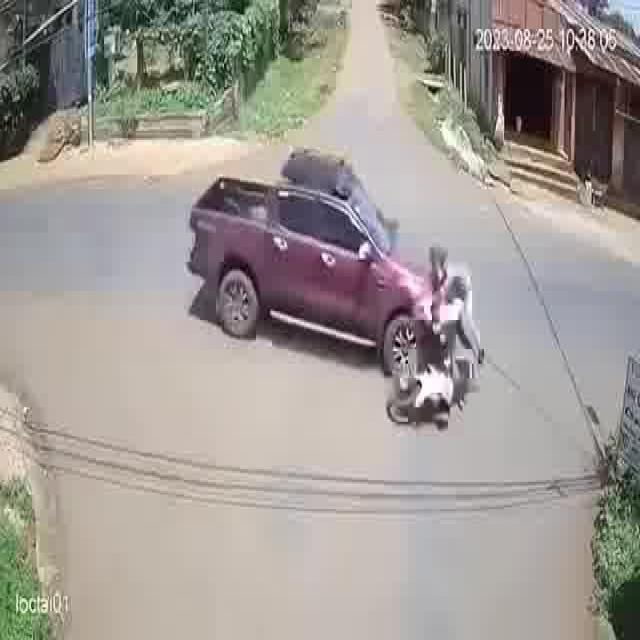multiple_accident: (180, 133, 489, 442)
